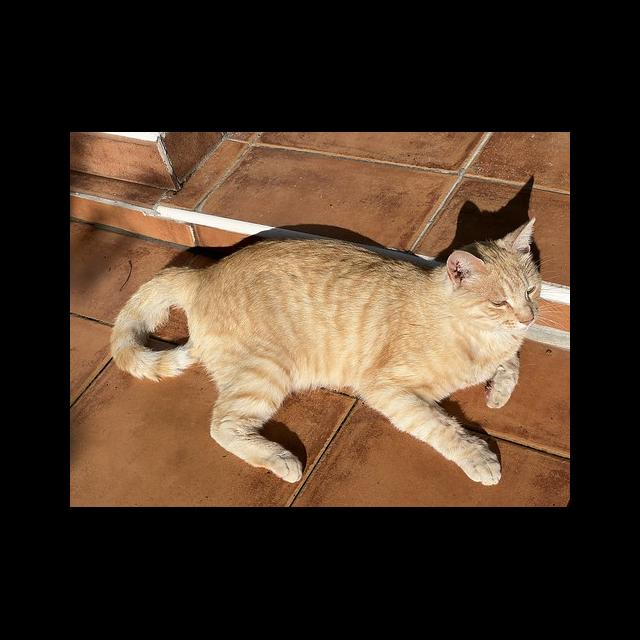animals: (111, 218, 542, 486)
